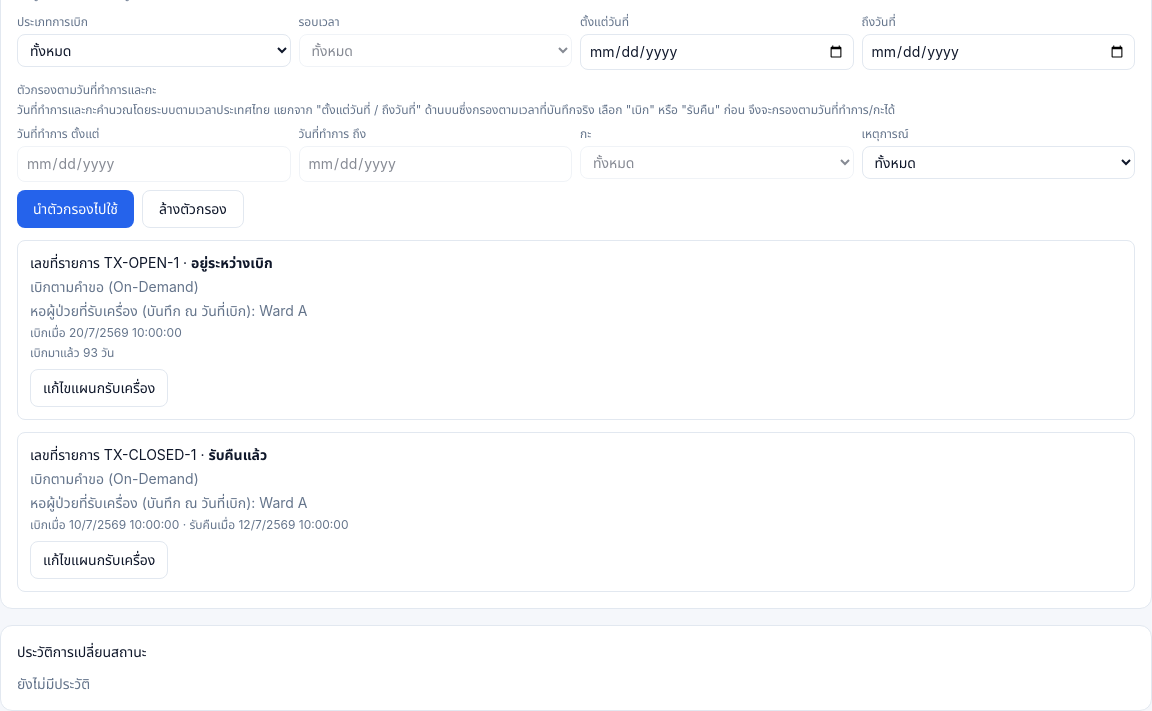
Test: EquipmentDetailPage transaction history (Roadmap PR9B review round 2, Finding 3) › admin can open ward correction for a CLOSED transaction
(page scrolled)
Expected: the text "TX-OPEN-1" is shown, top-left (104, 254), bottom-right (179, 271)
Expected: the text "TX-CLOSED-1" is shown, top-left (104, 446), bottom-right (196, 463)
Click the button "แก้ไขแผนกรับเครื่อง" below "TX-CLOSED-1". click: (99, 560)
box: top-left (30, 541), bottom-right (168, 579)
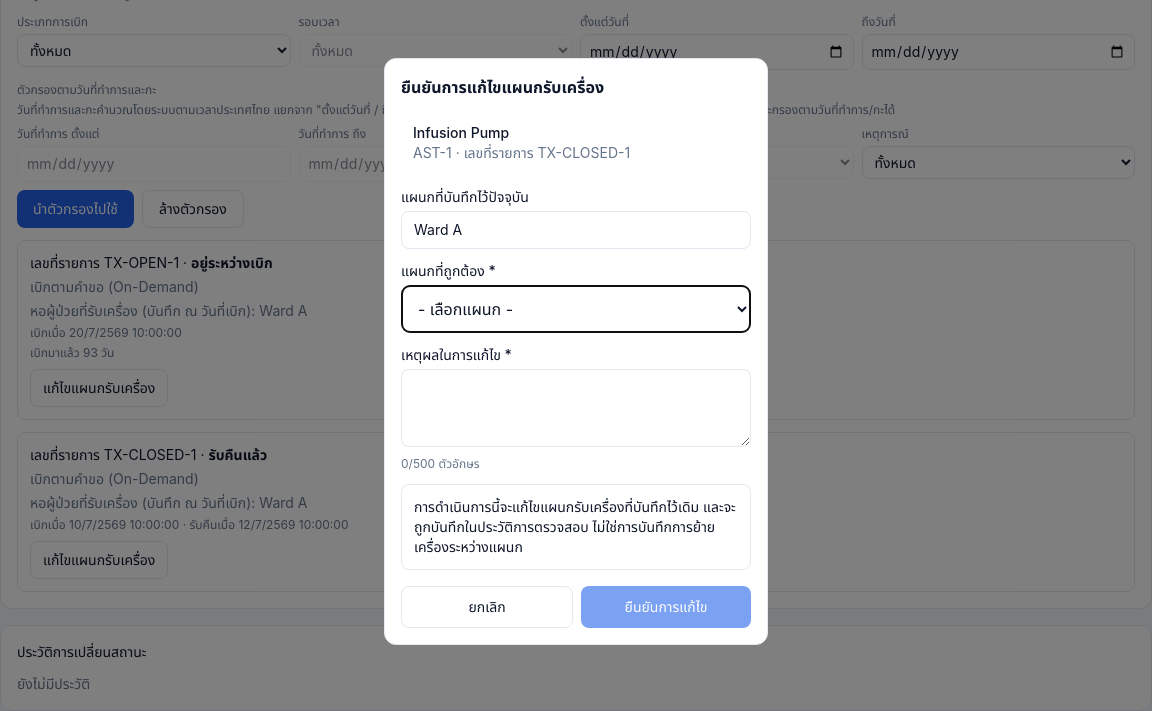
Result: the dialog is shown at top-left (384, 58), bottom-right (768, 644)
